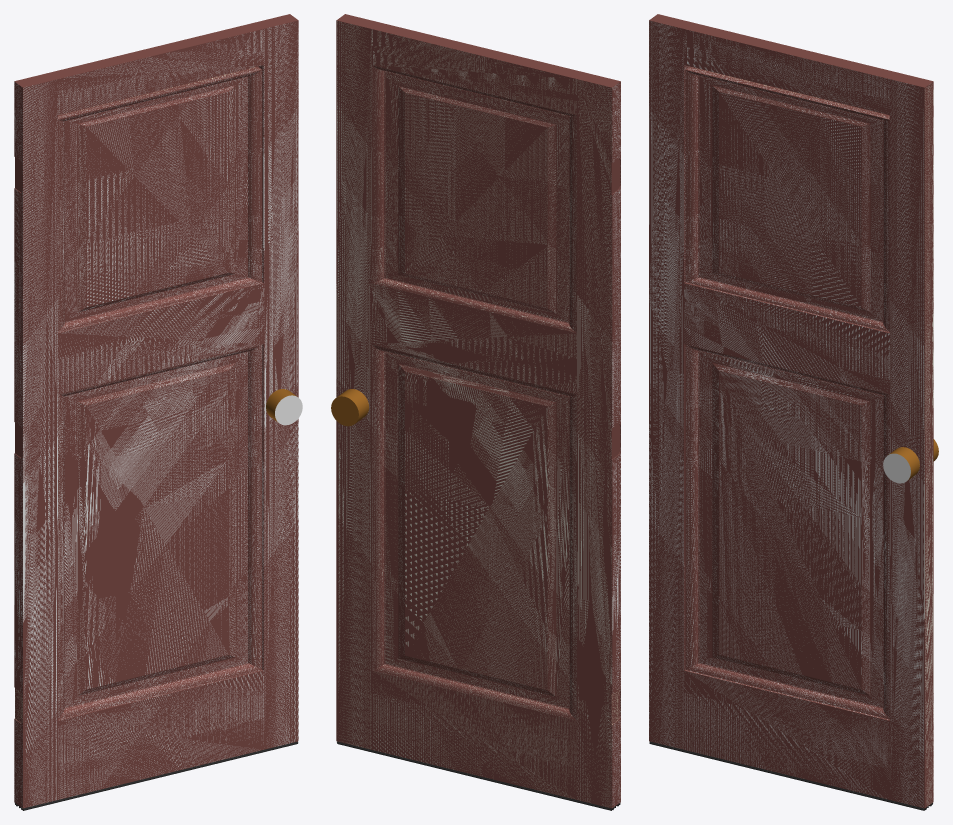
File: door.dae
3 renders of one model, left to right at view 1: azimuth 30°, elevation 25°; view 2: azimuth 150°, elevation 25°; view 3: azimuth 330°, elevation 25°, orthographic.
Visible parts, largest first — view 1: Panel_-_10in_x_1ft_11_5_8in (×2), Panel_-_10in_x_1ft_8_5_8in (×2), Stile_-_Hinge_1_3_4in_x_4_1_16in_x_6_7_5_8in__6ft_8in_door_, Stile_-_Lock_1_3_4in_x_4_1_16in_x_6_7_5_8in__6ft_8in_door_-_, Rail_-_Bottom_1_3_4in_x_1ft_11_3_4in_x_8_3_4in__2ft_8in_Door, Rail_-_1_3_4in_x_1ft_11_3_4in_x_6_3_4in__2ft_8in_door_, Rail_-_Top_1_3_4in_x_1ft_11_3_4in_x_4in__2ft_8in_door_ (×2), Molding_-_0.5in_0.25_round_-_1ft_11_5_8in (×2), Molding_-_0.5in_0.25in_round_-_10in (×4), Molding_-_0.5in_0.25_round_-_1ft_8_5_8in (×2), Door_Sweep__2ft_8in_Door_, SketchUp; view 2: Panel_-_10in_x_1ft_11_5_8in (×2), Panel_-_10in_x_1ft_8_5_8in (×2), Stile_-_Hinge_1_3_4in_x_4_1_16in_x_6_7_5_8in__6ft_8in_door_ (×2), Stile_-_Lock_1_3_4in_x_4_1_16in_x_6_7_5_8in__6ft_8in_door_-_, Rail_-_Bottom_1_3_4in_x_1ft_11_3_4in_x_8_3_4in__2ft_8in_Door, Rail_-_1_3_4in_x_1ft_11_3_4in_x_6_3_4in__2ft_8in_door_, Rail_-_Top_1_3_4in_x_1ft_11_3_4in_x_4in__2ft_8in_door_ (×2), Molding_-_0.5in_0.25_round_-_1ft_11_5_8in (×2), Molding_-_0.5in_0.25in_round_-_10in (×4), Molding_-_0.5in_0.25_round_-_1ft_8_5_8in (×2), SketchUp, Door_Sweep__2ft_8in_Door_; view 3: Panel_-_10in_x_1ft_11_5_8in (×2), Panel_-_10in_x_1ft_8_5_8in (×2), Stile_-_Lock_1_3_4in_x_4_1_16in_x_6_7_5_8in__6ft_8in_door_-_ (×2), Stile_-_Hinge_1_3_4in_x_4_1_16in_x_6_7_5_8in__6ft_8in_door_, Rail_-_Bottom_1_3_4in_x_1ft_11_3_4in_x_8_3_4in__2ft_8in_Door, Rail_-_1_3_4in_x_1ft_11_3_4in_x_6_3_4in__2ft_8in_door_, Rail_-_Top_1_3_4in_x_1ft_11_3_4in_x_4in__2ft_8in_door_ (×2), Molding_-_0.5in_0.25_round_-_1ft_11_5_8in (×2), Molding_-_0.5in_0.25in_round_-_10in (×4), Molding_-_0.5in_0.25_round_-_1ft_8_5_8in (×2), Door_Sweep__2ft_8in_Door_, SketchUp.
Part boxes in pixels (box(x1,y1,x2,y2)): Panel_-_10in_x_1ft_11_5_8in (×2): box(65, 351, 248, 707); Panel_-_10in_x_1ft_8_5_8in (×2): box(65, 76, 248, 321); Stile_-_Hinge_1_3_4in_x_4_1_16in_x_6_7_5_8in__6ft_8in_door_: box(14, 79, 57, 808); Stile_-_Lock_1_3_4in_x_4_1_16in_x_6_7_5_8in__6ft_8in_door_-_: box(259, 20, 298, 749); Rail_-_Bottom_1_3_4in_x_1ft_11_3_4in_x_8_3_4in__2ft_8in_Door: box(58, 670, 263, 799); Rail_-_1_3_4in_x_1ft_11_3_4in_x_6_3_4in__2ft_8in_door_: box(58, 282, 263, 394); Rail_-_Top_1_3_4in_x_1ft_11_3_4in_x_4in__2ft_8in_door_ (×2): box(50, 22, 263, 115); Molding_-_0.5in_0.25_round_-_1ft_11_5_8in (×2): box(58, 344, 262, 718); Molding_-_0.5in_0.25in_round_-_10in (×4): box(58, 67, 261, 719); Molding_-_0.5in_0.25_round_-_1ft_8_5_8in (×2): box(58, 70, 262, 330); Door_Sweep__2ft_8in_Door_: box(15, 741, 298, 810); SketchUp: box(275, 395, 302, 425); Panel_-_10in_x_1ft_11_5_8in (×2): box(385, 352, 568, 708); Panel_-_10in_x_1ft_8_5_8in (×2): box(385, 71, 568, 322); Stile_-_Hinge_1_3_4in_x_4_1_16in_x_6_7_5_8in__6ft_8in_door_ (×2): box(577, 79, 620, 808); Stile_-_Lock_1_3_4in_x_4_1_16in_x_6_7_5_8in__6ft_8in_door_-_: box(336, 20, 371, 749); Rail_-_Bottom_1_3_4in_x_1ft_11_3_4in_x_8_3_4in__2ft_8in_Door: box(371, 671, 576, 799); Rail_-_1_3_4in_x_1ft_11_3_4in_x_6_3_4in__2ft_8in_door_: box(371, 283, 576, 394); Rail_-_Top_1_3_4in_x_1ft_11_3_4in_x_4in__2ft_8in_door_ (×2): box(371, 22, 585, 115); Molding_-_0.5in_0.25_round_-_1ft_11_5_8in (×2): box(371, 345, 576, 720); Molding_-_0.5in_0.25in_round_-_10in (×4): box(372, 65, 576, 720); Molding_-_0.5in_0.25_round_-_1ft_8_5_8in (×2): box(371, 65, 576, 332); SketchUp: box(331, 389, 369, 426); Door_Sweep__2ft_8in_Door_: box(337, 741, 620, 810); Panel_-_10in_x_1ft_11_5_8in (×2): box(699, 351, 882, 707); Panel_-_10in_x_1ft_8_5_8in (×2): box(699, 76, 882, 321); Stile_-_Lock_1_3_4in_x_4_1_16in_x_6_7_5_8in__6ft_8in_door_-_ (×2): box(889, 79, 933, 808); Stile_-_Hinge_1_3_4in_x_4_1_16in_x_6_7_5_8in__6ft_8in_door_: box(649, 20, 688, 749); Rail_-_Bottom_1_3_4in_x_1ft_11_3_4in_x_8_3_4in__2ft_8in_Door: box(684, 670, 889, 799); Rail_-_1_3_4in_x_1ft_11_3_4in_x_6_3_4in__2ft_8in_door_: box(684, 282, 889, 394); Rail_-_Top_1_3_4in_x_1ft_11_3_4in_x_4in__2ft_8in_door_ (×2): box(684, 22, 897, 115); Molding_-_0.5in_0.25_round_-_1ft_11_5_8in (×2): box(685, 344, 889, 717); Molding_-_0.5in_0.25in_round_-_10in (×4): box(685, 67, 889, 719); Molding_-_0.5in_0.25_round_-_1ft_8_5_8in (×2): box(685, 70, 889, 330); Door_Sweep__2ft_8in_Door_: box(649, 741, 932, 810); SketchUp: box(883, 453, 910, 483).
Bounding box in the file's own units: 31.88 × 5.58 × 79.95.
